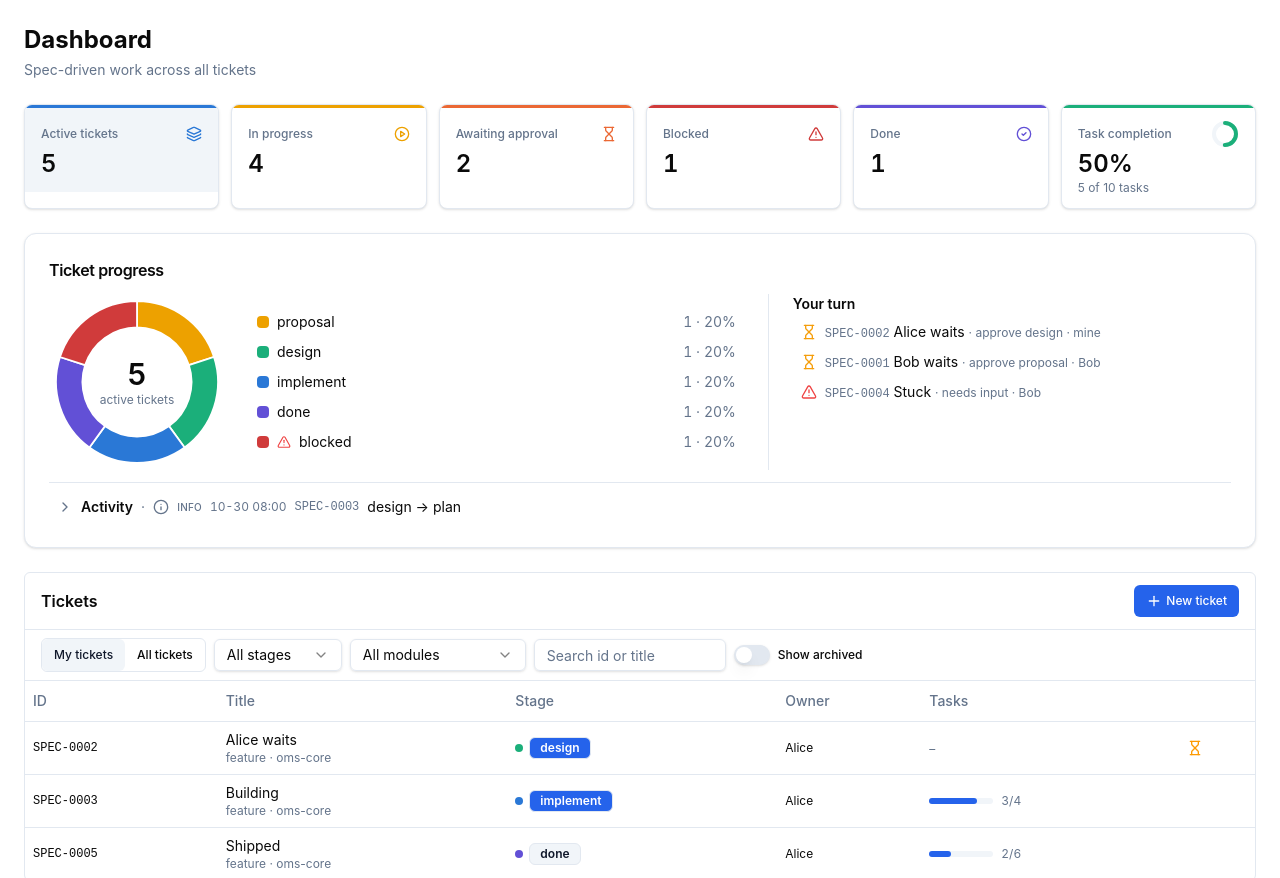
Test: Dashboard › live refresh adds a new activity entry marked new
The width and height of the screenshot is (1280, 878).
Click the button "Activity · info 10-30 08:00 SPEC-0003 design → plan" at (107, 506), box [49,491,1231,523]
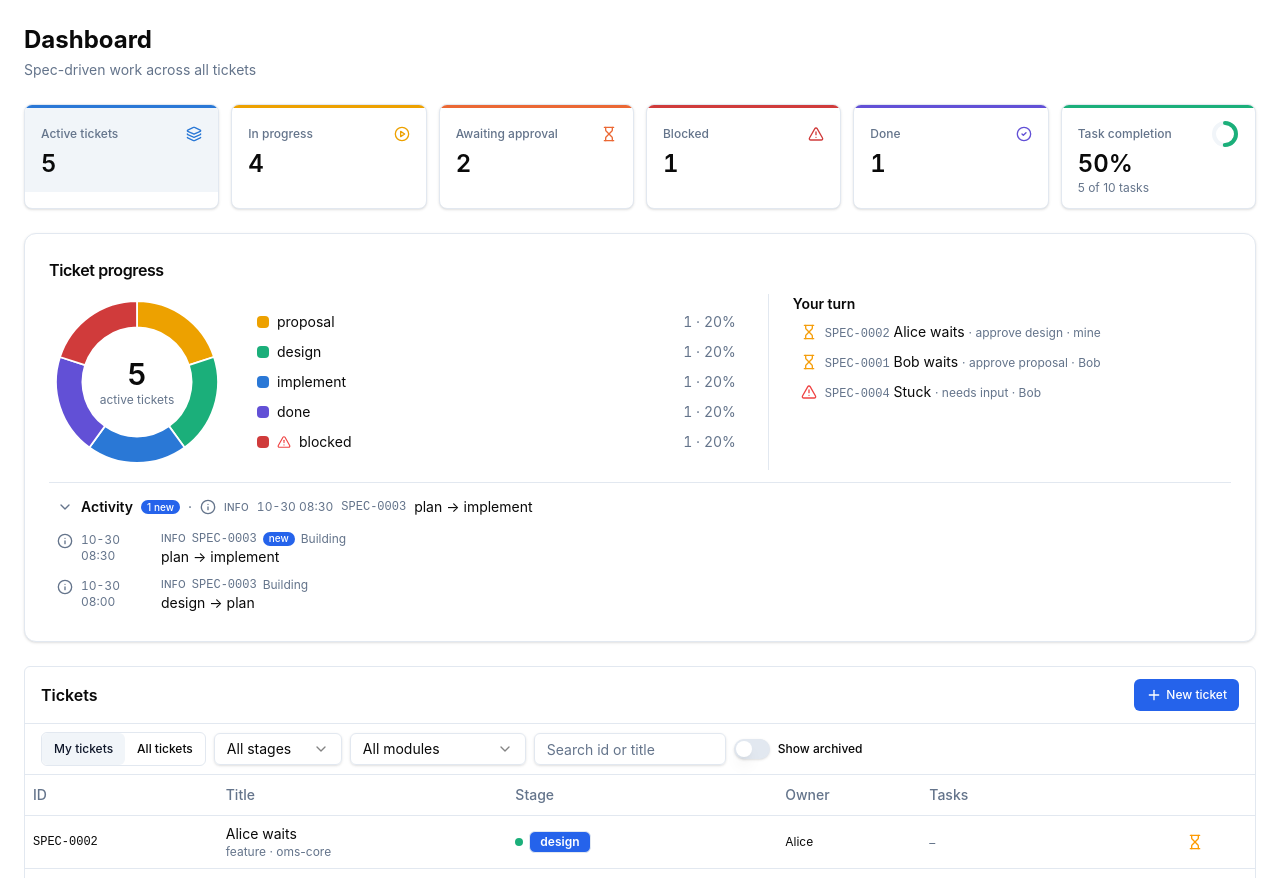
Expected: the list item "10-30 08:30 info SPEC-0003 new Building plan → implement" is shown, [49,527,1227,571]
Expected: the button "Activity 1 new · info 10-30 08:30 SPEC-0003 plan → implement" is expanded, [49,491,1231,523]
